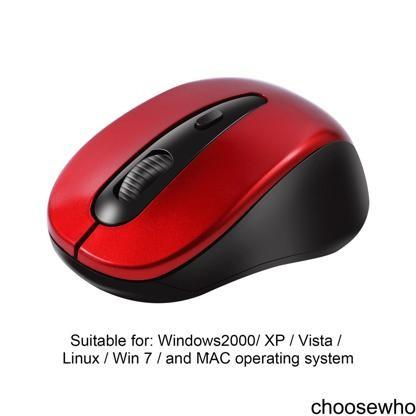not trash: (46, 74, 370, 306)
